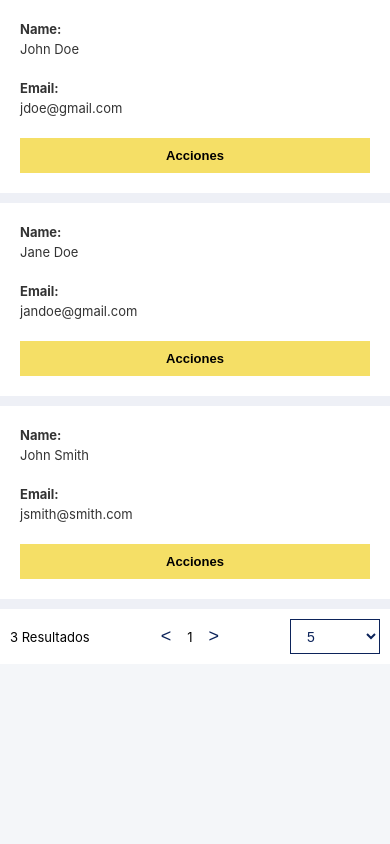
Test: Render Table component › should toggle menu visibility on button click
Click the text "Acciones" below "John Doe".
click(195, 156)  # box 166,148 -> 224,163
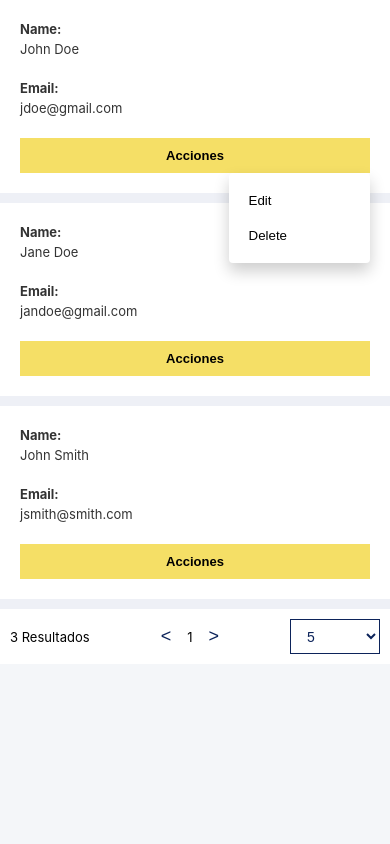
Expected: the button "Edit" is shown, 228,183 -> 370,218
Expected: the button "Delete" is shown, 228,218 -> 370,253
Click the text "Acciones" below "John Doe".
click(195, 156)  # box 166,148 -> 224,163
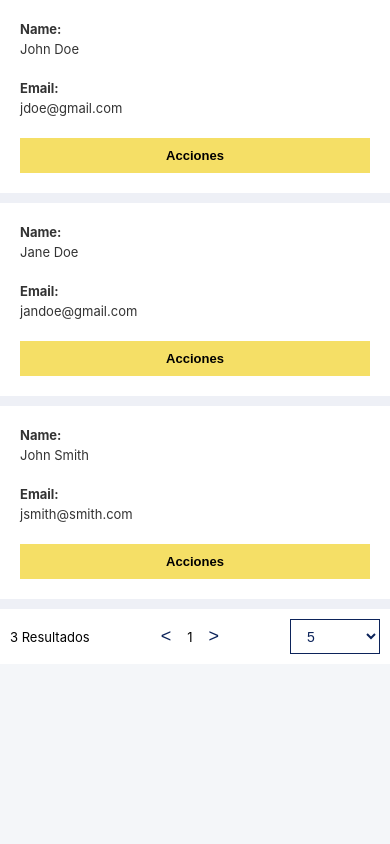
Expected: the button "Edit" is gone
Expected: the button "Delete" is gone
